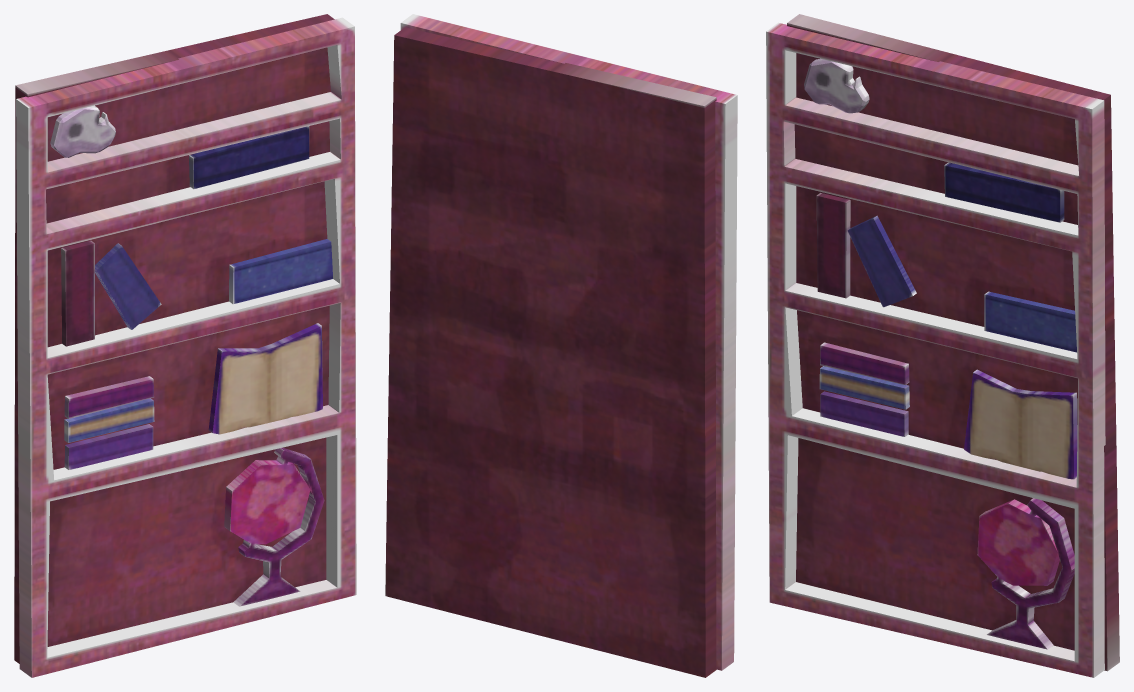
The model's file is bokhylla.fbx.
3 renders of one model, left to right at view 1: azimuth 30°, elevation 25°; view 2: azimuth 150°, elevation 25°; view 3: azimuth 330°, elevation 25°, orthographic.
Visible parts, largest first — view 1: bokhylla, bokhyllafram, books, globe, skull; view 2: bokhylla, bokhyllafram; view 3: bokhylla, bokhyllafram, books, globe, skull.
Boxes of the visible parts, x1,y1,x2,y2 form: bokhylla: (14, 14, 334, 663); bokhyllafram: (16, 17, 356, 677); books: (61, 126, 332, 469); globe: (224, 447, 324, 606); skull: (50, 105, 115, 157); bokhylla: (385, 27, 716, 677); bokhyllafram: (400, 14, 737, 670); bokhylla: (787, 14, 1119, 671); bokhyllafram: (766, 22, 1105, 677); books: (816, 162, 1077, 479); globe: (977, 498, 1074, 649); skull: (804, 58, 869, 113).
Bounding box in the file's own units: 154 × 256 × 18.61.
